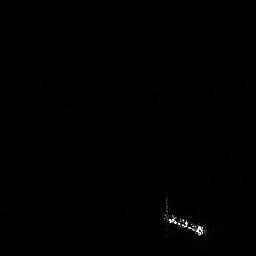ship: (158, 191, 210, 239)
